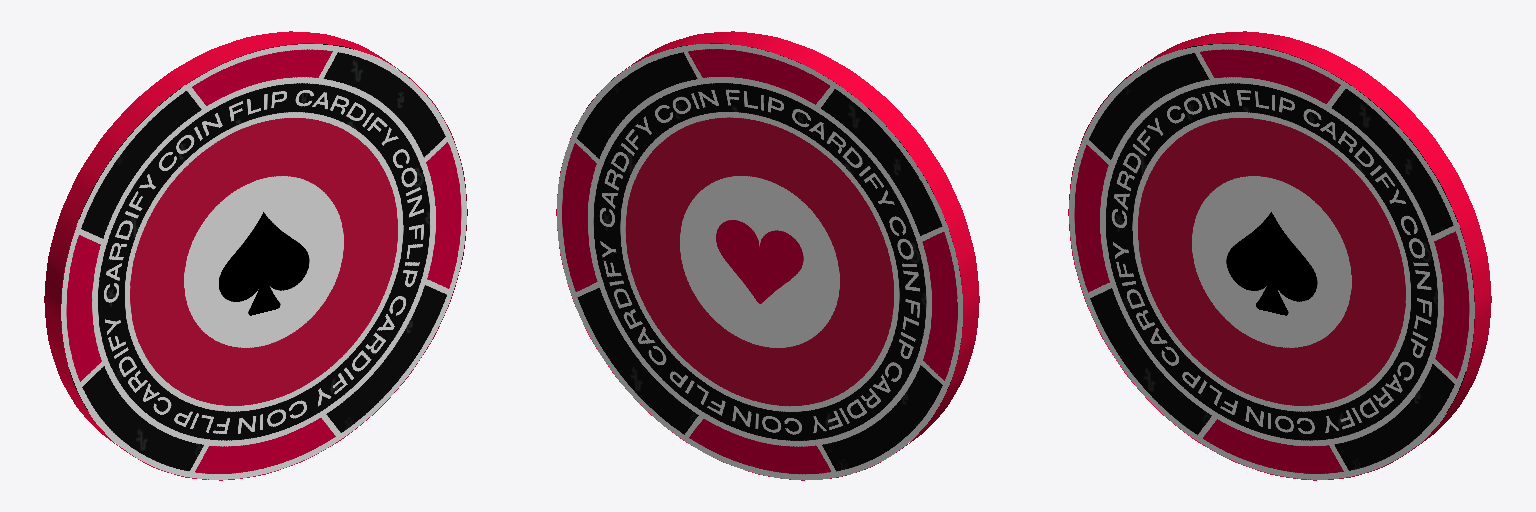
The picture shows the model from 3 angles: view 1: azimuth 30°, elevation 25°; view 2: azimuth 150°, elevation 25°; view 3: azimuth 330°, elevation 25°; orthographic projection.
Parts seen in each view (by area): view 1: COIN; view 2: COIN; view 3: COIN.
Part boxes in pixels (x1,y1,x2,y2): COIN: (44, 31, 467, 480); COIN: (556, 31, 979, 480); COIN: (1068, 31, 1491, 480).
Bounding box in the file's own units: 1.77 × 1.77 × 0.1219.
3 materials, 2 textured.